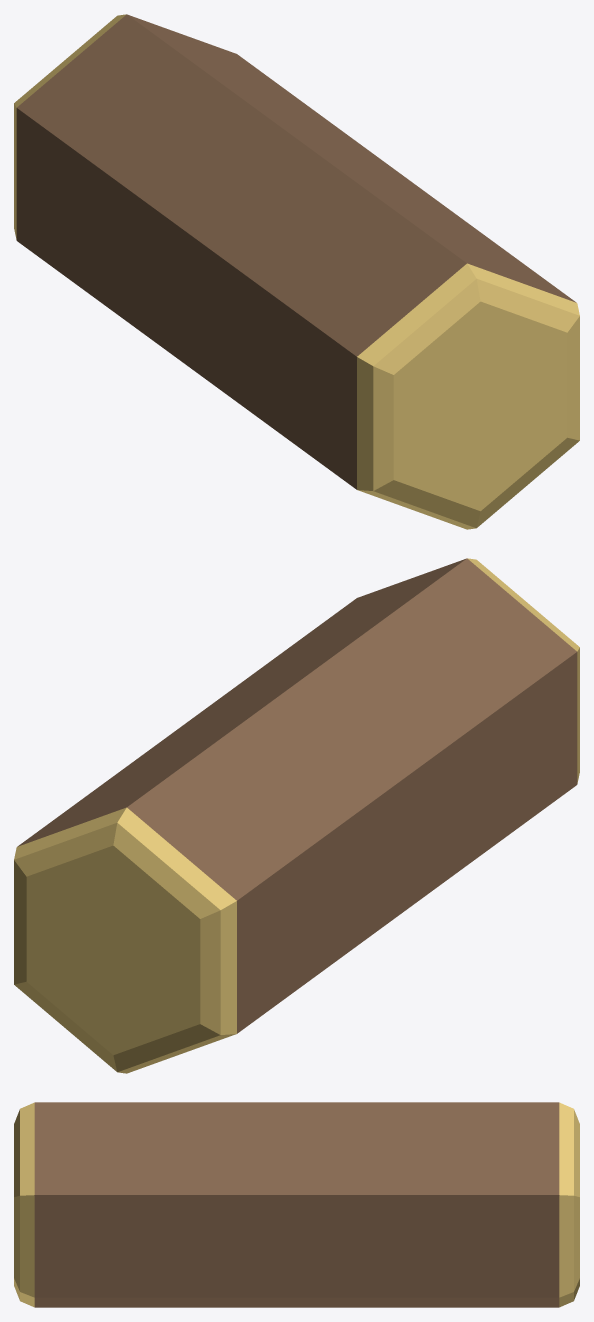
File: Item (Tree v.2).fbx
3 views of the same model, one above another, from view 1: azimuth 30°, elevation 25°; view 2: azimuth 150°, elevation 25°; view 3: azimuth 270°, elevation 25° (orthographic). The views are drawn at different scales.
Visible parts, largest first — view 1: item_tree; view 2: item_tree; view 3: item_tree.
Part boxes in pixels (bbox=[...]): item_tree: bbox=[14, 14, 579, 529]; item_tree: bbox=[14, 558, 579, 1073]; item_tree: bbox=[14, 1102, 579, 1307].
Size of the model in its own units: 15.45 by 17.84 by 44.6.
